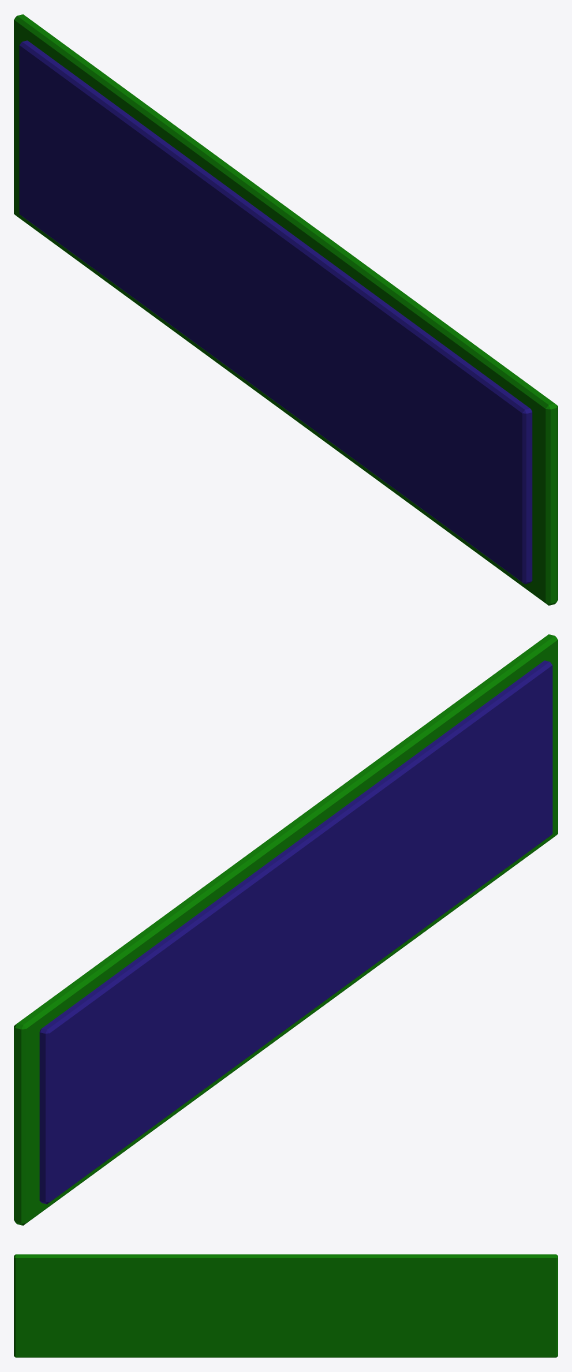
The model's file is Qin Dynasty Sign.fbx.
3 views of the same model, one above another, from view 1: azimuth 30°, elevation 25°; view 2: azimuth 150°, elevation 25°; view 3: azimuth 270°, elevation 25° (orthographic). The views are drawn at different scales.
Parts seen in each view (by area): view 1: pCube28, pCube27; view 2: pCube28, pCube27; view 3: pCube27.
Part boxes in pixels (x1=…): pCube28: x1=19, y1=40, x2=532, y2=584; pCube27: x1=14, y1=14, x2=557, y2=605; pCube28: x1=39, y1=660, x2=552, y2=1204; pCube27: x1=14, y1=634, x2=557, y2=1225; pCube27: x1=14, y1=1254, x2=557, y2=1357.
Bounding box in the file's own units: 0.0744 × 0.67 × 3.24.
